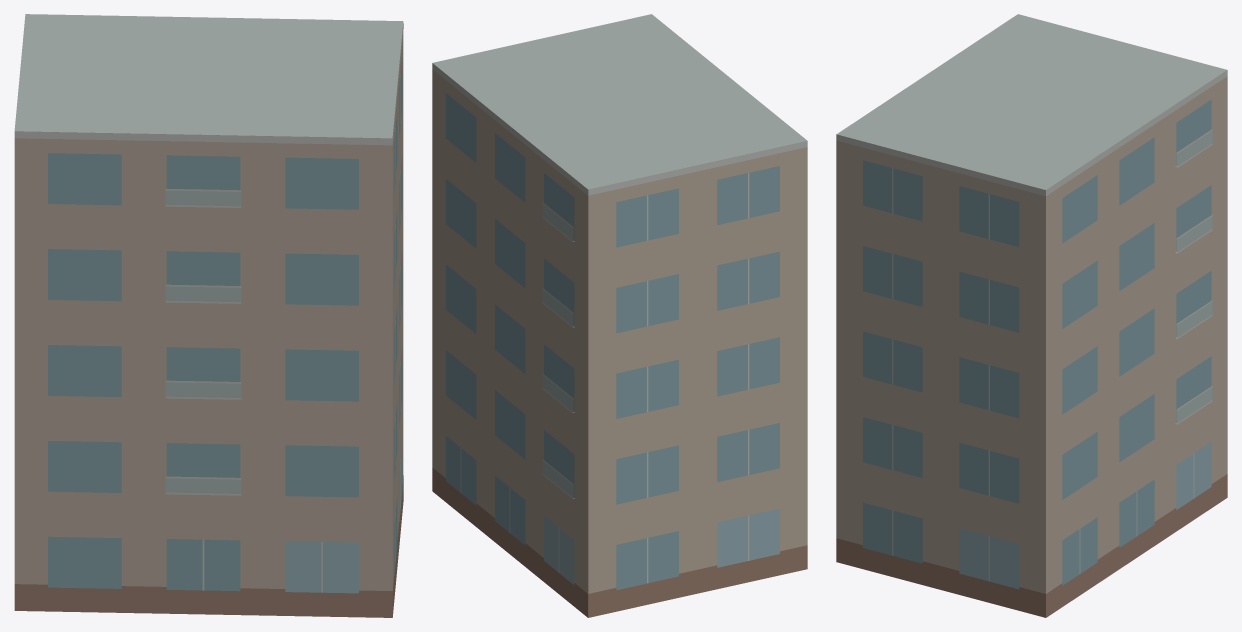
The model's file is survey-upis-32846187.glb.
3 renders of one model, left to right at view 1: azimuth 30°, elevation 25°; view 2: azimuth 150°, elevation 25°; view 3: azimuth 270°, elevation 25°, orthographic. The views are drawn at different scales.
Parts seen in each view (by area): view 1: survey-upis-32846187.tmp; view 2: survey-upis-32846187.tmp; view 3: survey-upis-32846187.tmp.
Boxes of the visible parts, x1,y1,x2,y2 form: survey-upis-32846187.tmp: (14,14,403,617); survey-upis-32846187.tmp: (432,14,807,617); survey-upis-32846187.tmp: (836,14,1227,617).
Size of the model in its own units: 14.84 by 16.8 by 13.93.
